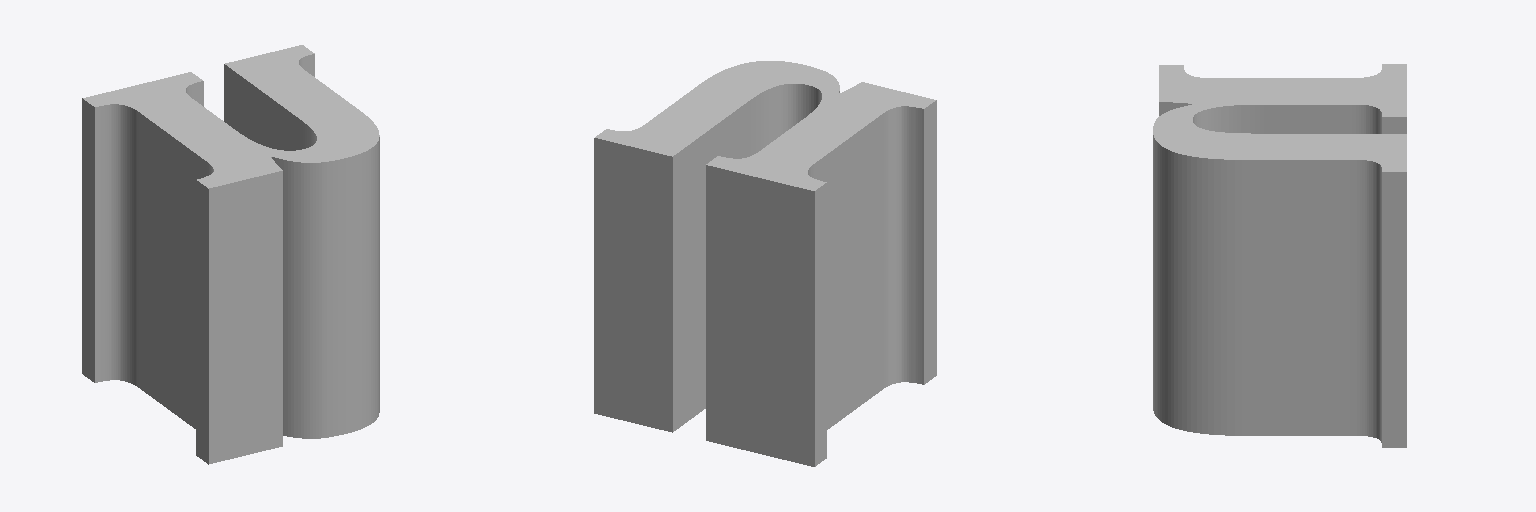
The picture shows the model from 3 angles: view 1: azimuth 30°, elevation 25°; view 2: azimuth 150°, elevation 25°; view 3: azimuth 270°, elevation 25°; orthographic projection.
Visible parts, largest first — view 1: obj_0; view 2: obj_0; view 3: obj_0.
Part boxes in pixels (x1,y1,x2,y2): obj_0: (82,45,379,464); obj_0: (594,61,936,466); obj_0: (1153,64,1406,447).
Size of the model in its own units: 5 by 5.99 by 5.